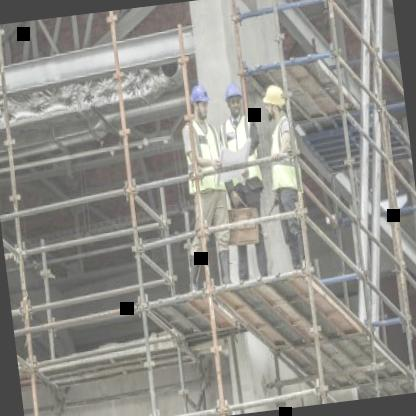helmet: (186, 80, 212, 124), (260, 82, 288, 119), (220, 78, 245, 118)
